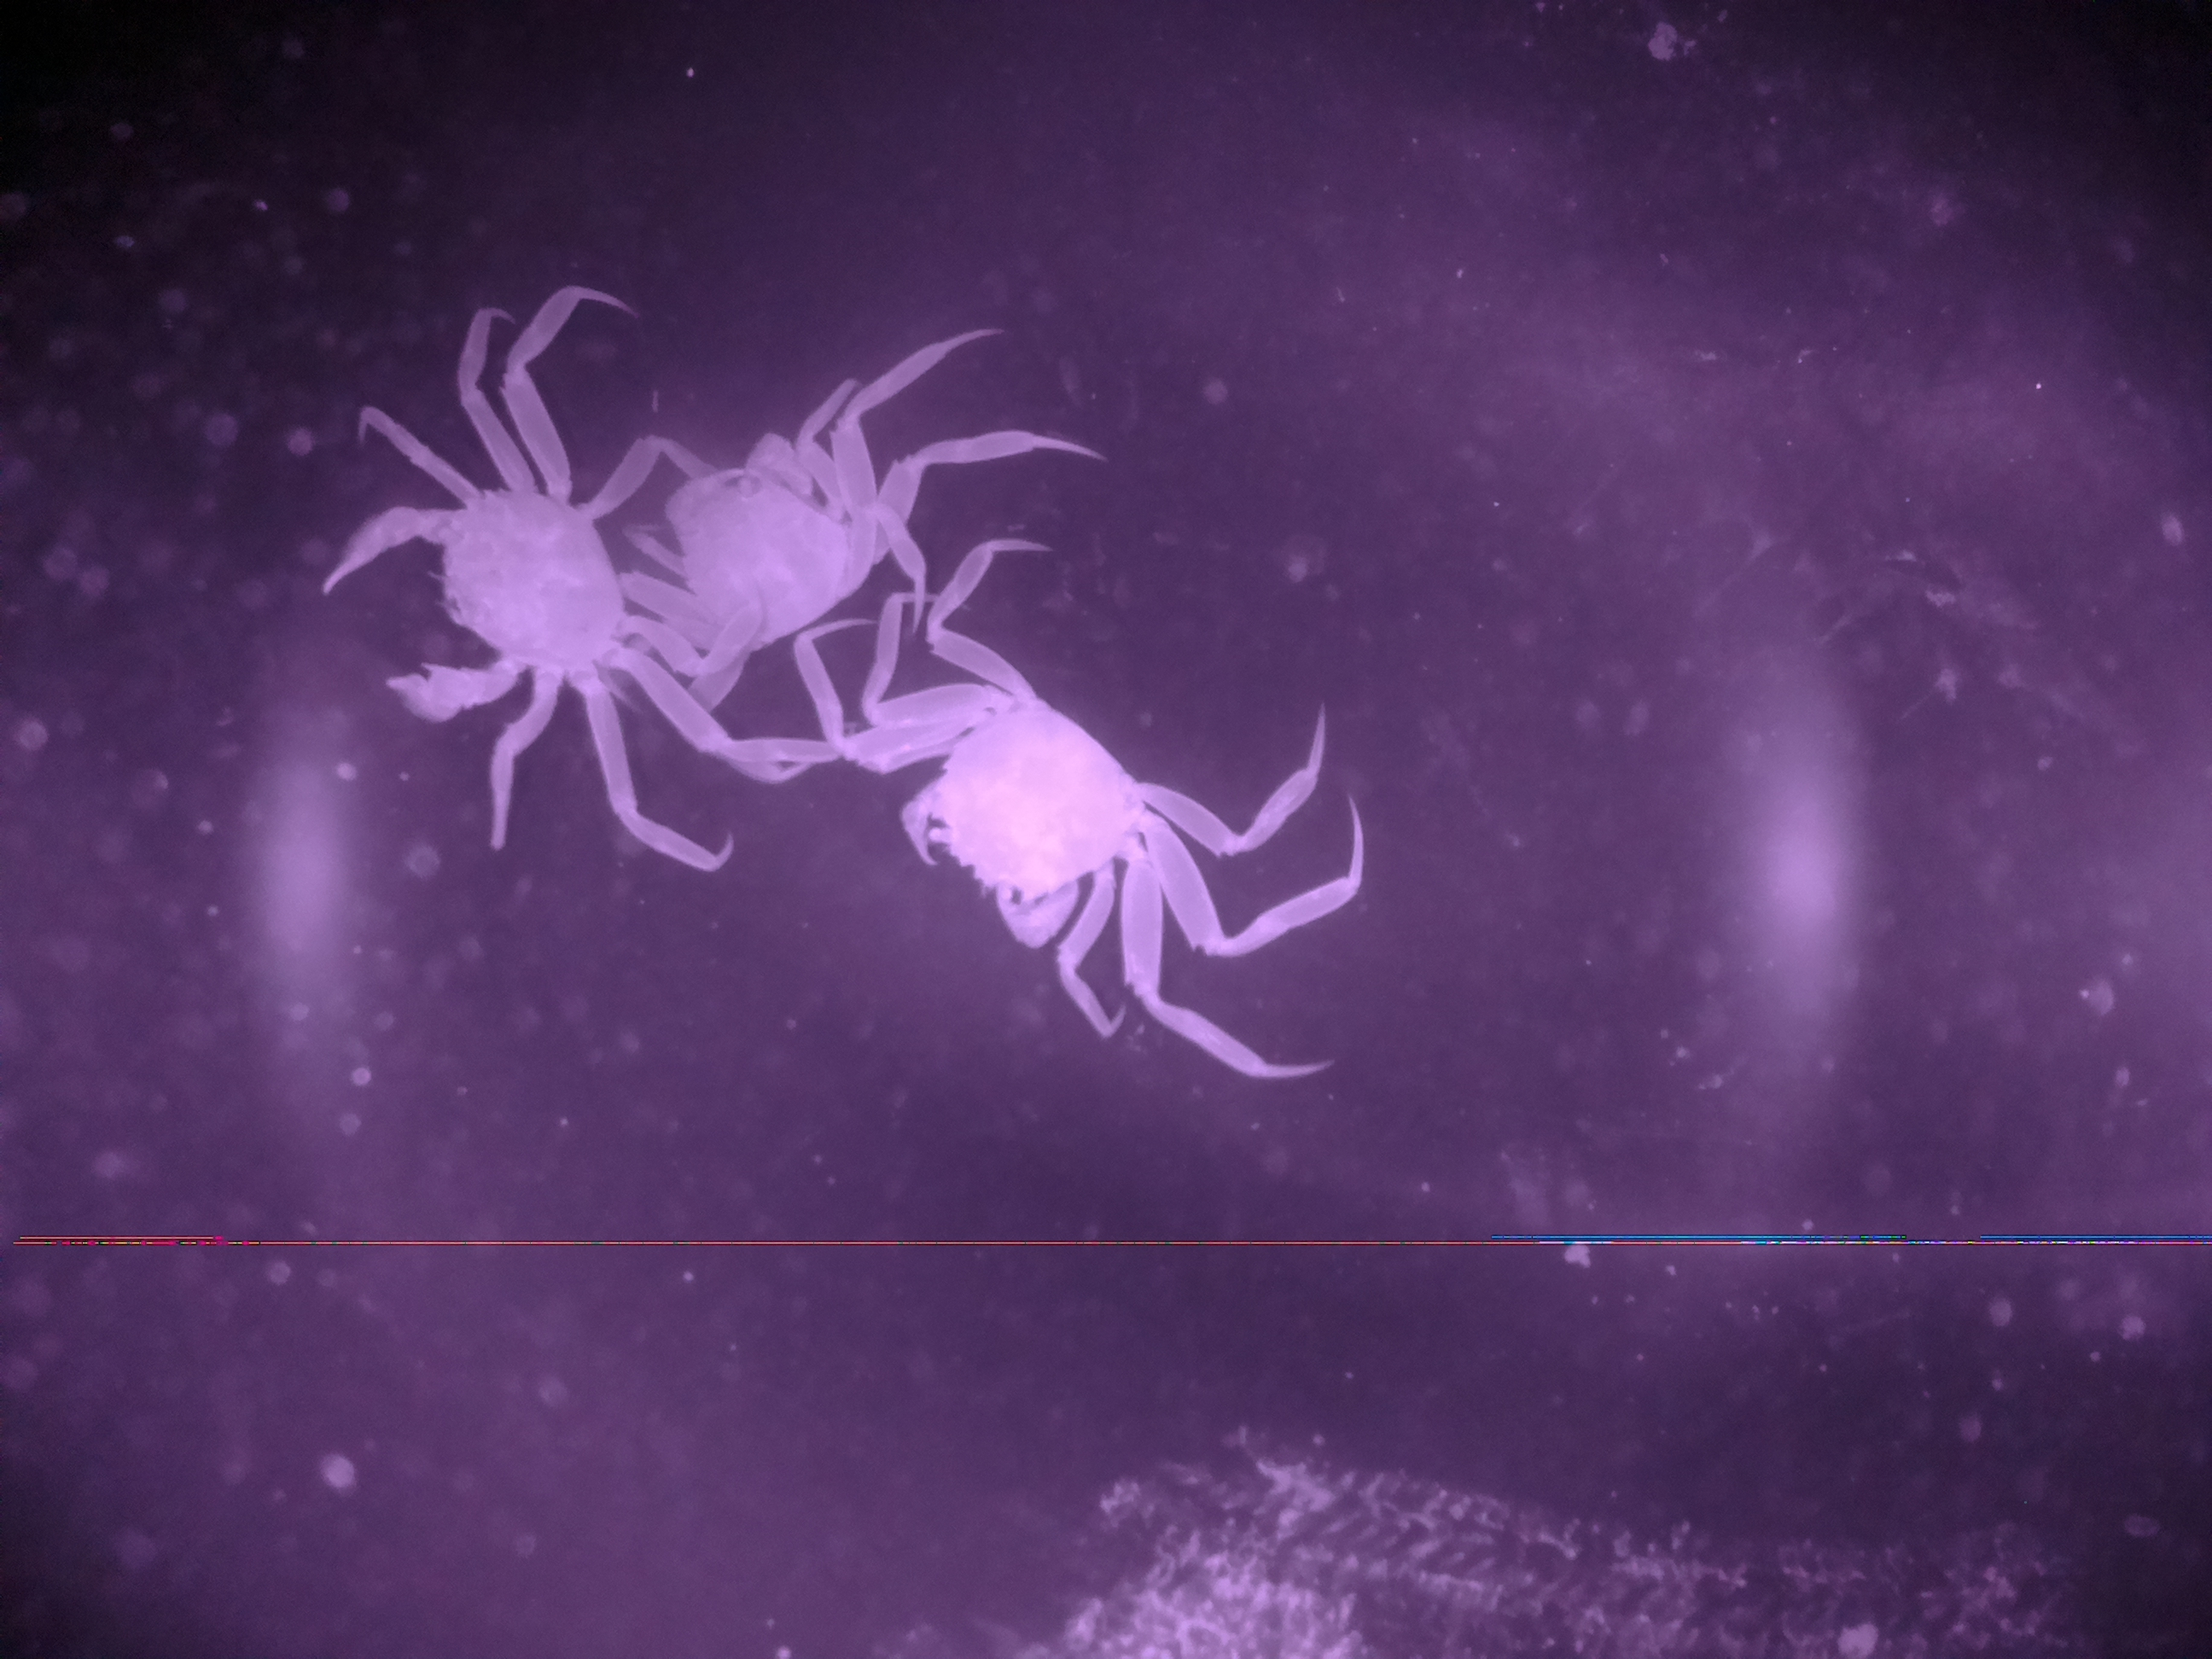Crab: (260, 446, 671, 769), (876, 624, 1186, 983), (596, 394, 913, 735)
